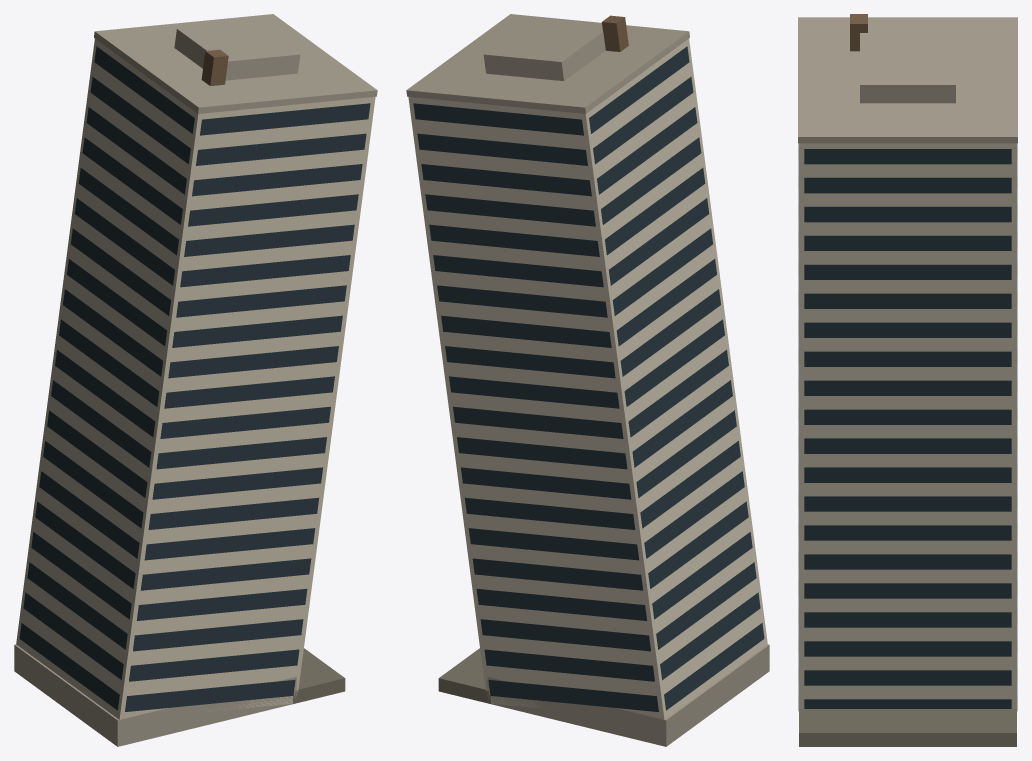
The model's file is tw_leaning_tower_lod1.glb.
The picture shows the model from 3 angles, left to right: view 1: azimuth 30°, elevation 25°; view 2: azimuth 150°, elevation 25°; view 3: azimuth 270°, elevation 25°; orthographic projection. The views are drawn at different scales.
Visible parts, largest first — view 1: tw_leaning_tower_lod1; view 2: tw_leaning_tower_lod1; view 3: tw_leaning_tower_lod1.
Boxes of the visible parts, x1,y1,x2,y2 form: tw_leaning_tower_lod1: (14, 14, 377, 746); tw_leaning_tower_lod1: (406, 14, 769, 746); tw_leaning_tower_lod1: (798, 14, 1017, 746).
Size of the model in its own units: 34.79 by 82.3 by 24.2.
2 materials, 2 textured.
